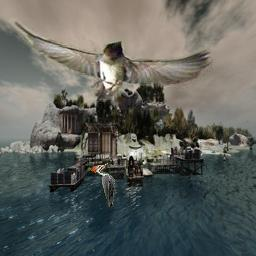Swallow: (9, 18, 213, 106)
Woodpecker: (91, 163, 115, 208)
